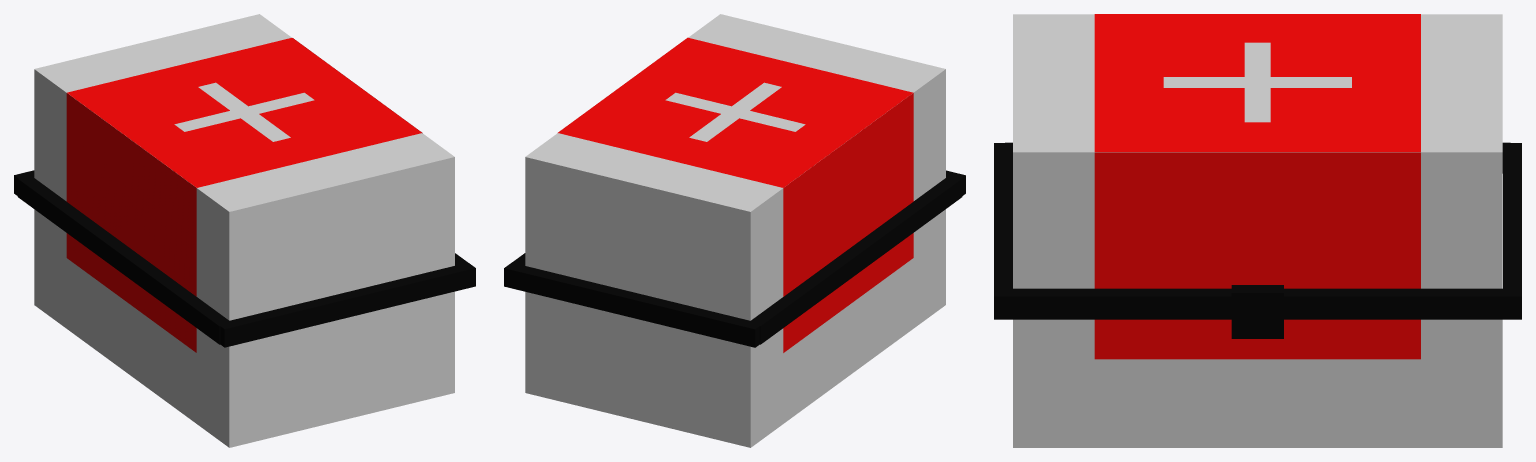
The model's file is medKit.fbx.
3 renders of one model, left to right at view 1: azimuth 30°, elevation 25°; view 2: azimuth 150°, elevation 25°; view 3: azimuth 270°, elevation 25°, orthographic. The views are drawn at different scales.
Visible parts, largest first — view 1: Cube, Plane, Plane.002, Cube.003, Cube.002, Plane.003, Plane.004; view 2: Cube, Plane, Plane.002, Cube.004, Cube.002, Plane.004, Plane.003; view 3: Cube, Plane.001, Plane, Cube.001, Cube.004, Cube.003, Cube.005, Plane.003, Plane.004.
Part boxes in pixels (x1,y1,x2,y2): Cube: [34, 14, 454, 447]; Plane: [67, 38, 421, 187]; Plane.002: [66, 93, 196, 352]; Cube.003: [220, 263, 475, 347]; Cube.002: [17, 178, 232, 344]; Plane.003: [174, 92, 314, 131]; Plane.004: [198, 82, 290, 141]; Cube: [525, 14, 945, 447]; Plane: [558, 37, 912, 187]; Plane.002: [783, 93, 913, 352]; Cube.004: [504, 262, 762, 347]; Cube.002: [751, 175, 962, 344]; Plane.004: [689, 82, 781, 141]; Plane.003: [665, 92, 805, 131]; Cube: [1013, 14, 1502, 447]; Plane.001: [1094, 152, 1420, 359]; Plane: [1094, 14, 1420, 151]; Cube.001: [1005, 288, 1502, 319]; Cube.004: [1503, 143, 1521, 319]; Cube.003: [994, 143, 1012, 319]; Cube.005: [1231, 285, 1283, 338]; Plane.003: [1244, 42, 1270, 122]; Plane.004: [1163, 77, 1351, 87].
Bounding box in the file's own units: 235 × 201 × 323.
